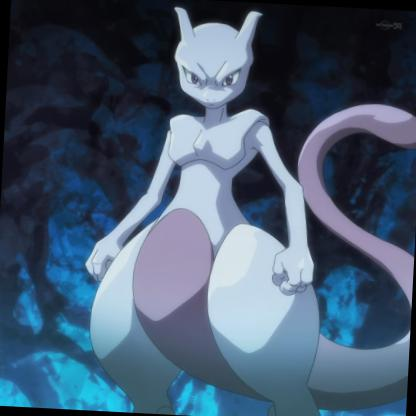Mewtwo: (1, 37, 416, 416)
